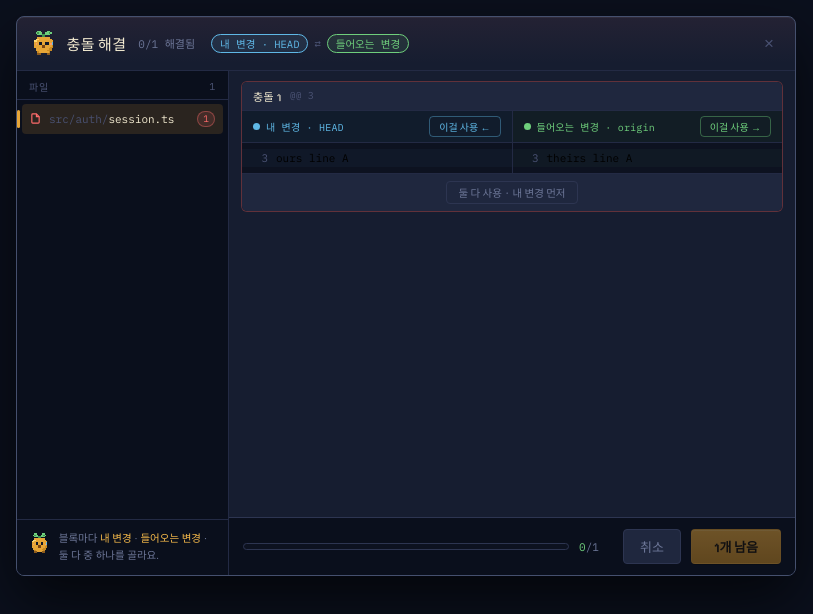
Test case: ConflictEditorModal — 실 IPC 배선 › continueMerge가 error를 반환하면 에러를 담백하게 표시한다
Expected: the text "session.ts" is shown, [108, 112, 174, 126]
Click the button "이걸 사용 ←" at point(465, 126), box [429, 116, 500, 137]
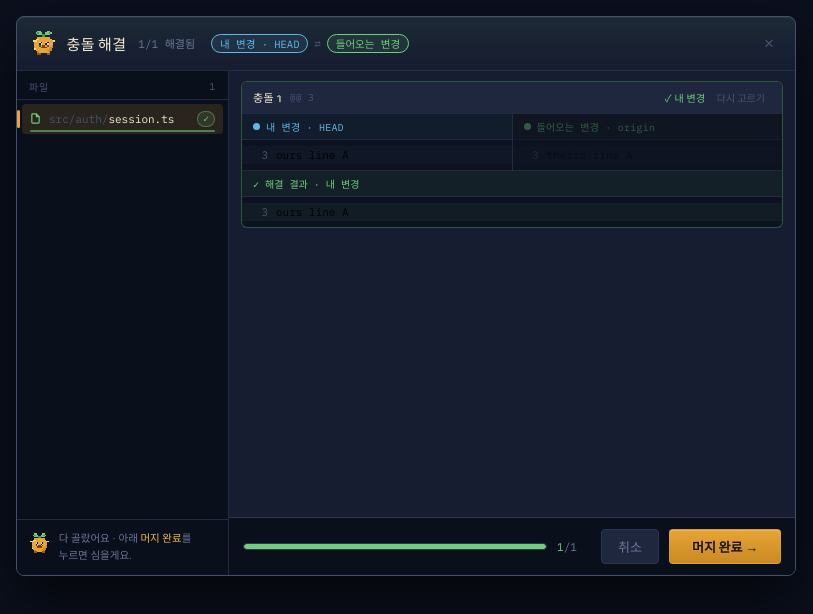
Click the button "머지 완료 →" at point(725, 546), box [669, 529, 781, 564]
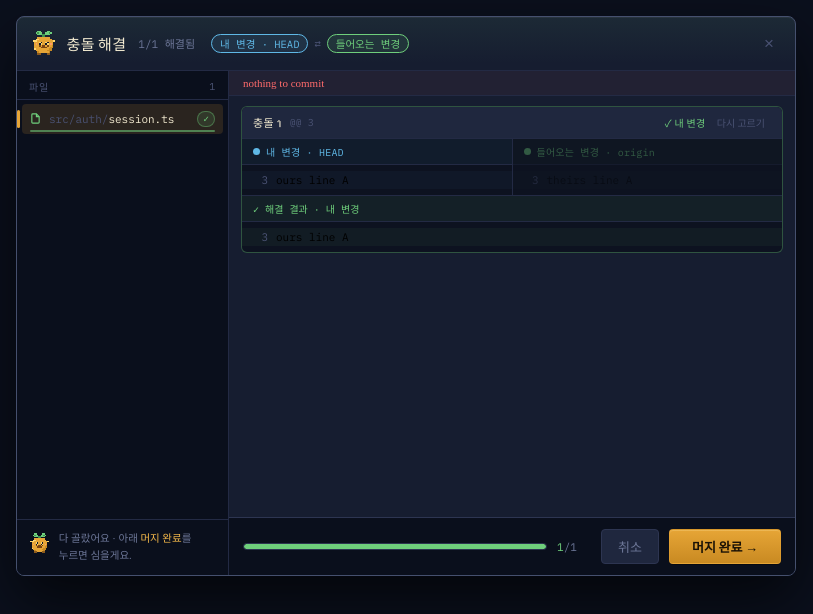
Now the text "nothing to commit" is shown, box [229, 71, 795, 96]
